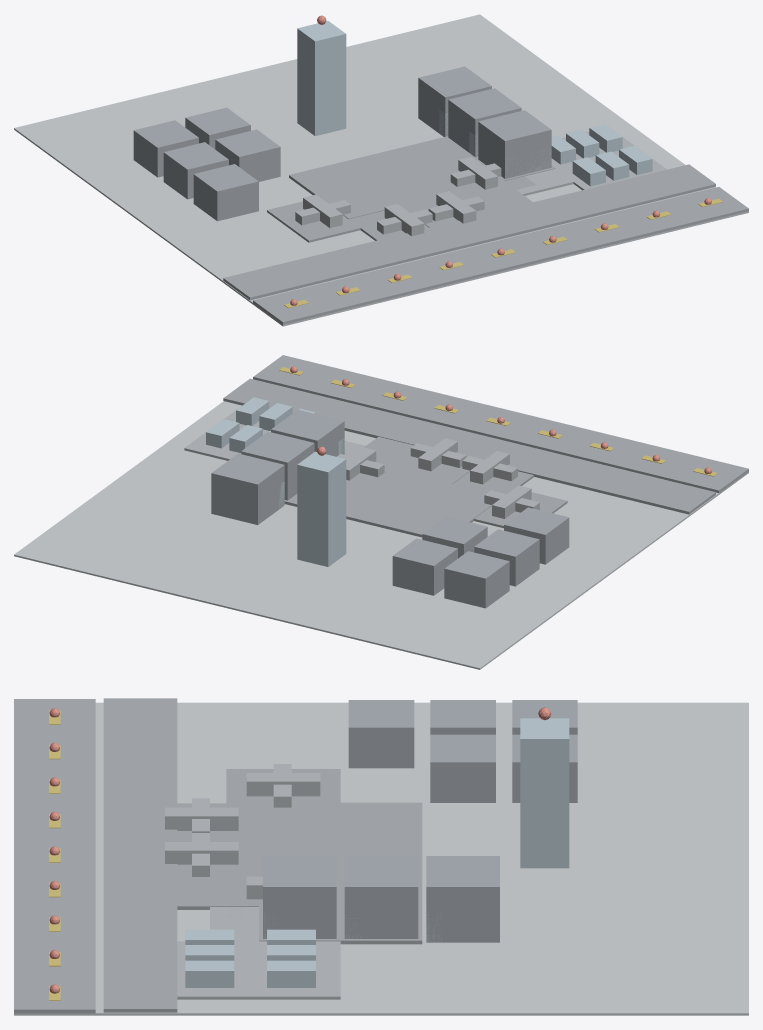
Rendered from stage_21.glb.
3 views of the same model, one above another, from view 1: azimuth 30°, elevation 25°; view 2: azimuth 150°, elevation 25°; view 3: azimuth 270°, elevation 25° (orthographic). The views are drawn at different scales.
Visible parts, largest first — view 1: geometry_0; view 2: geometry_0; view 3: geometry_0.
Part boxes in pixels (x1,y1,x2,y2): geometry_0: (14, 14, 748, 326); geometry_0: (14, 355, 748, 669); geometry_0: (14, 698, 748, 1015).
Bounding box in the file's own units: 9 × 2.06 × 9.
